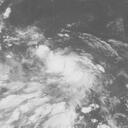cyclone: (0, 31, 114, 127)
